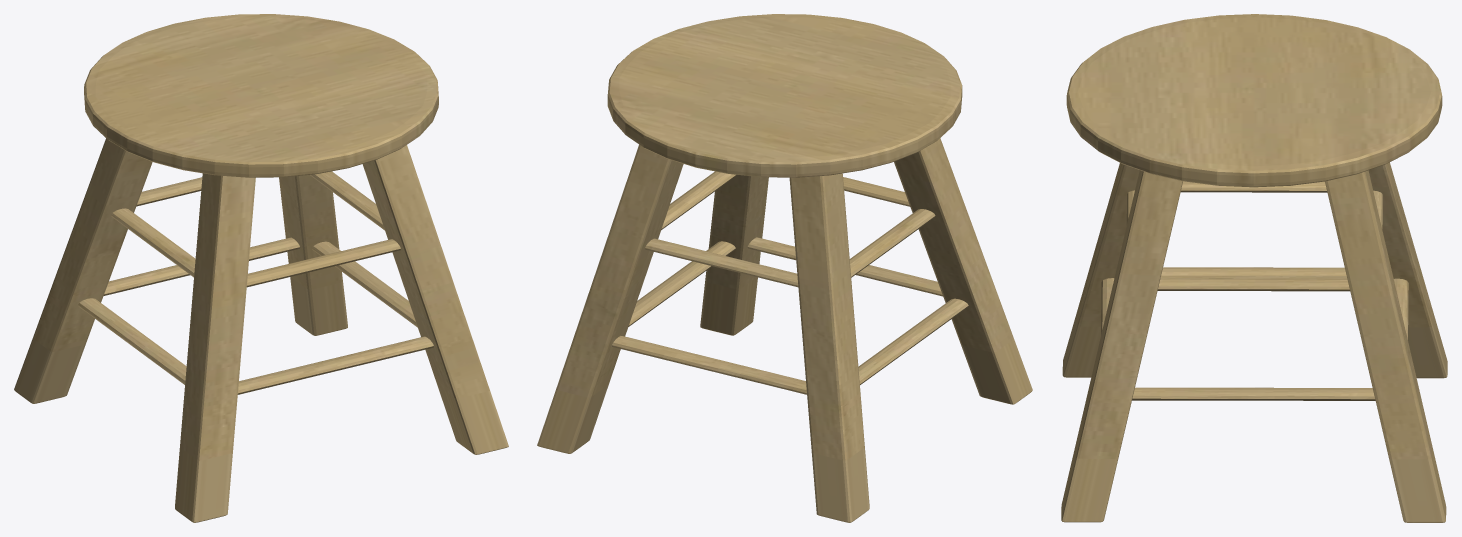
The model's file is sh-bs0-stool2.glb.
3 views of the same model, side by side, from view 1: azimuth 30°, elevation 25°; view 2: azimuth 150°, elevation 25°; view 3: azimuth 270°, elevation 25° (orthographic). The views are drawn at different scales.
Visible parts, largest first — view 1: Cube.028_Cube.029; view 2: Cube.028_Cube.029; view 3: Cube.028_Cube.029.
Part boxes in pixels (x1,y1,x2,y2): Cube.028_Cube.029: [14, 14, 508, 522]; Cube.028_Cube.029: [537, 14, 1032, 522]; Cube.028_Cube.029: [1061, 14, 1447, 522].
Size of the model in its own units: 1 by 1 by 1.
1 material, 1 textured.
